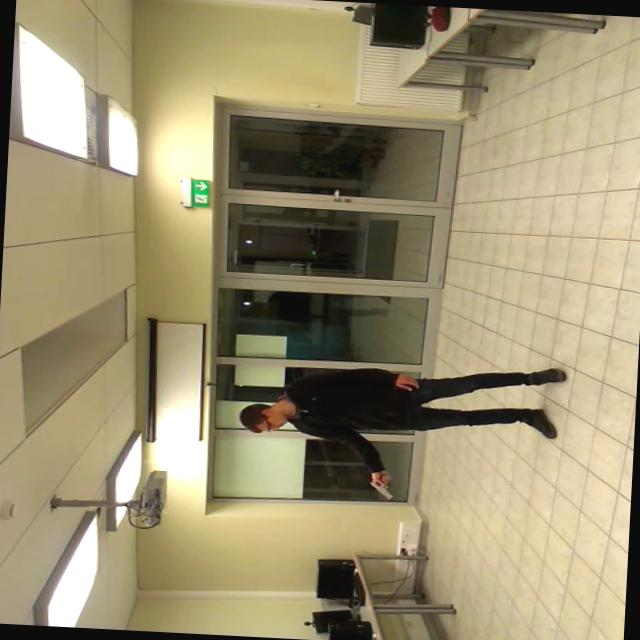handgun: (359, 468, 408, 506)
